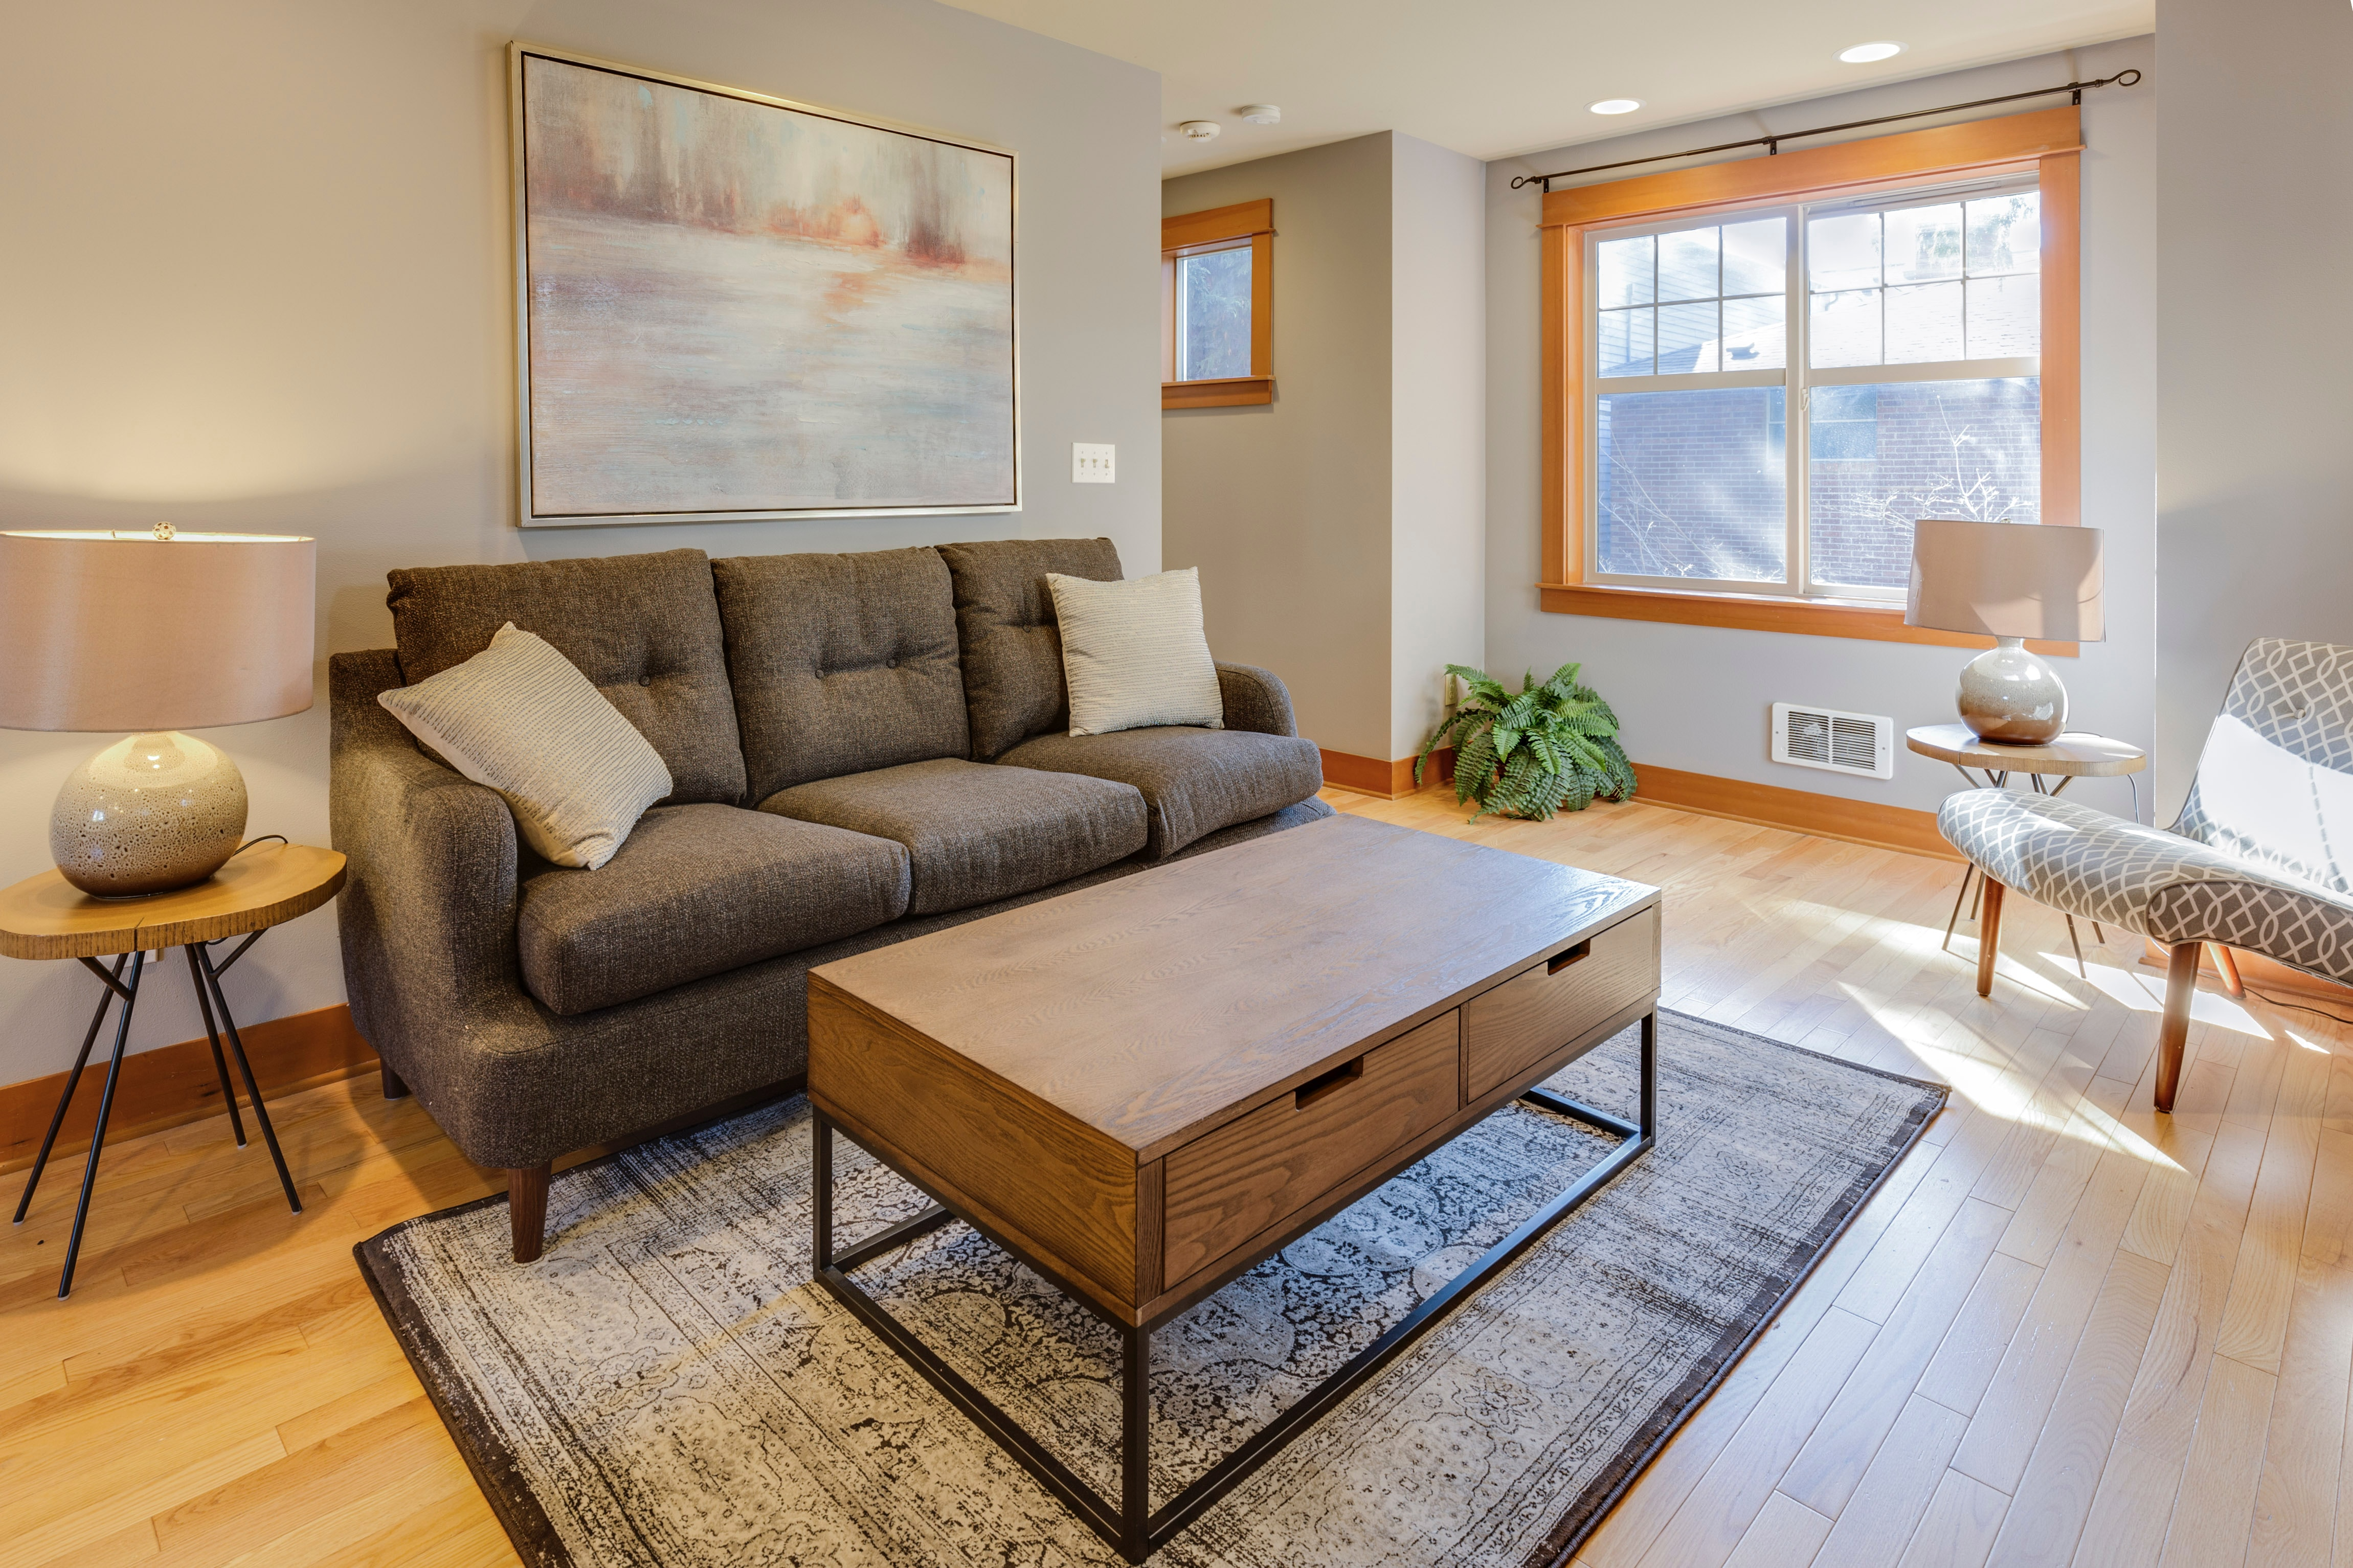Painting: (485, 30, 1038, 531)
Plant: (1405, 663, 1641, 827)
Sofa: (307, 529, 1339, 1265)
Table: (805, 805, 1717, 1558)
